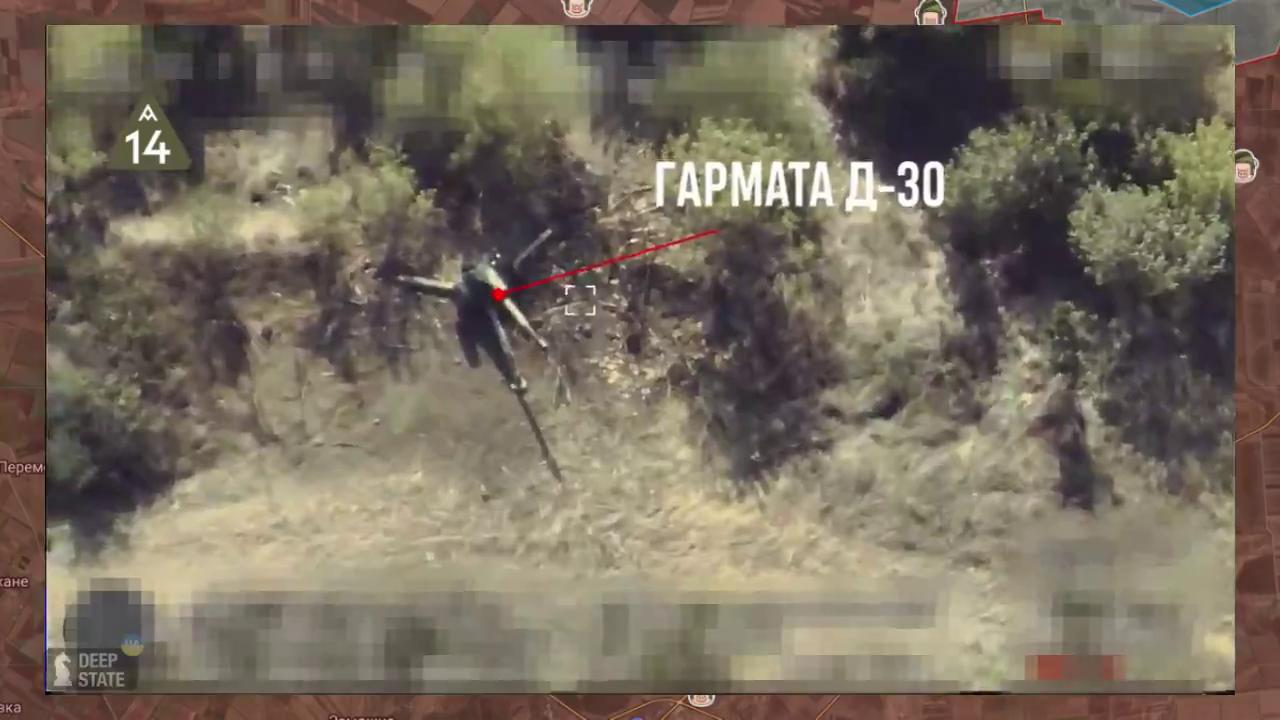tank: (383, 175, 568, 413)
